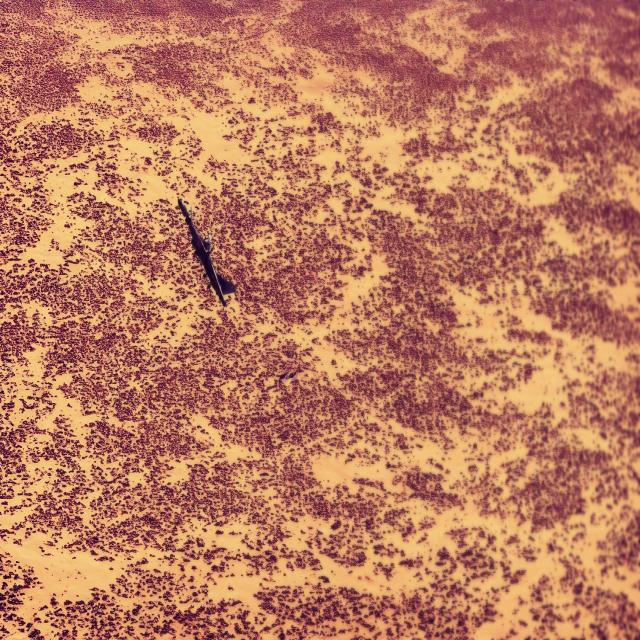airplane: (177, 196, 236, 307)
